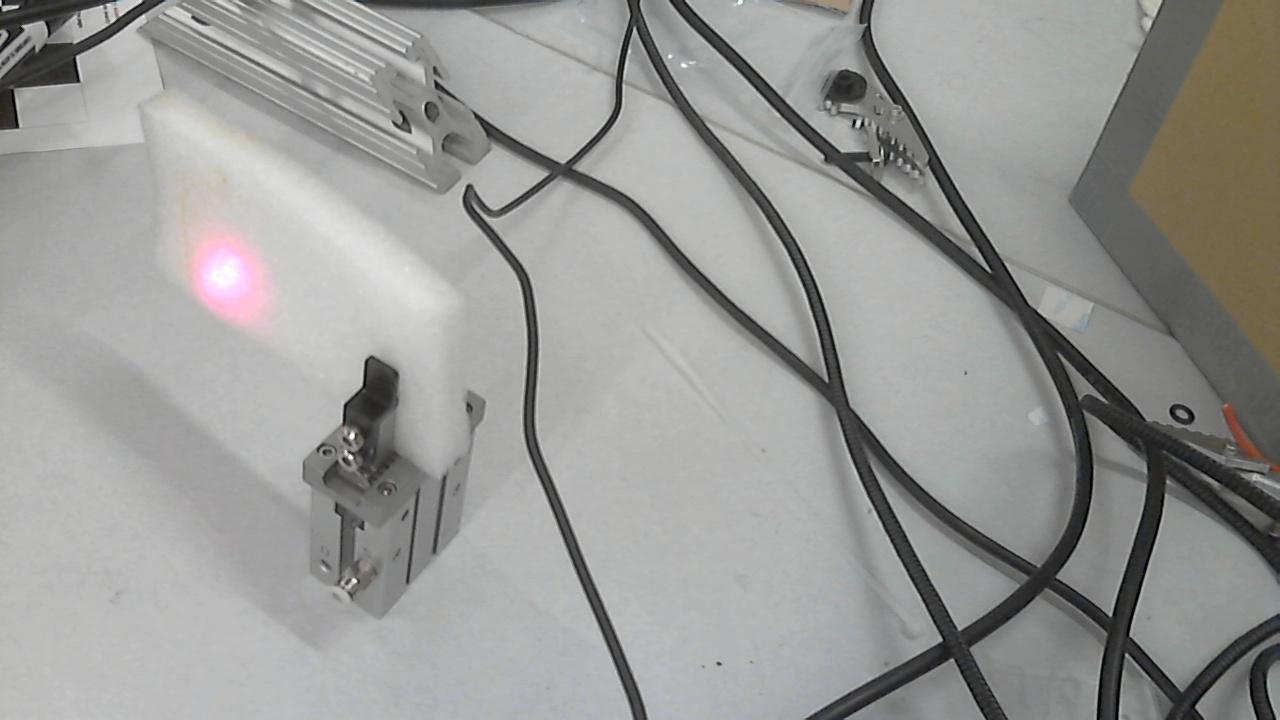Object white rectangular foam block - Material Foam - Color white - Pdfname LpbA: (143, 223, 285, 326)
